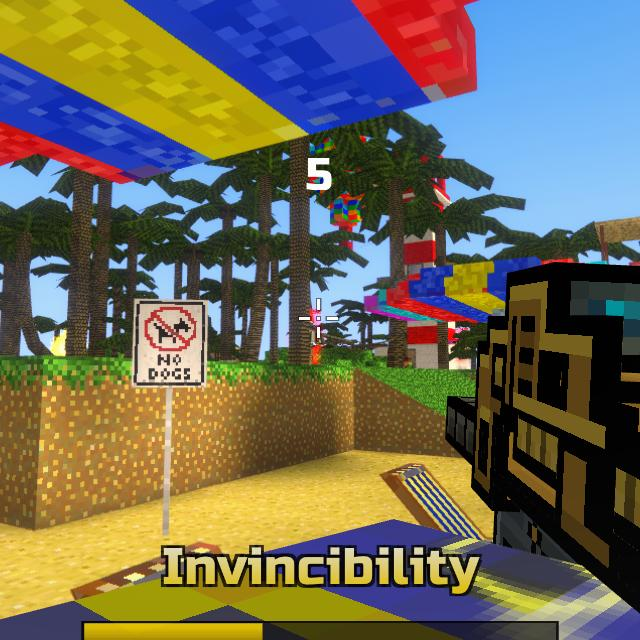Enemy: (310, 314, 324, 364)
